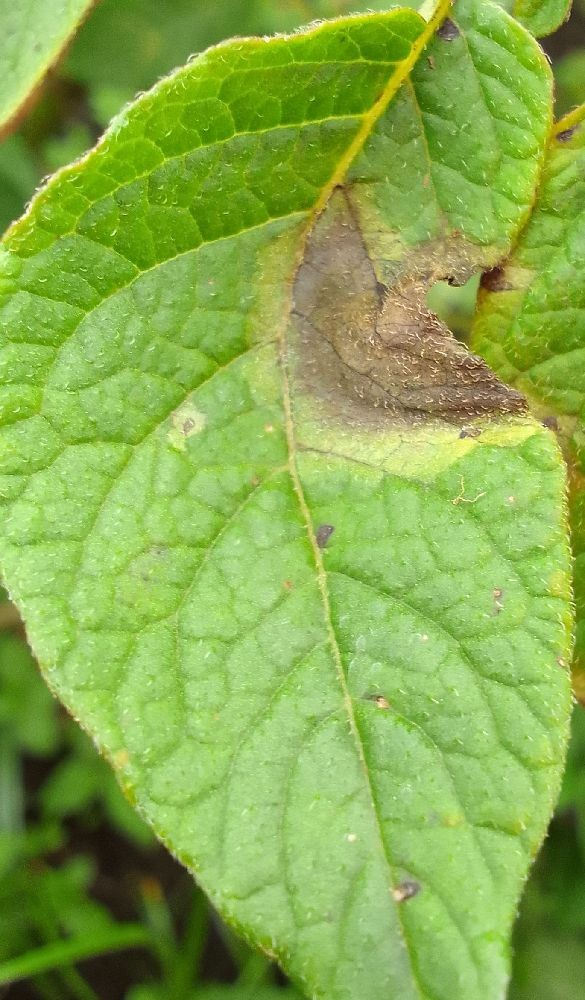late_blight: (260, 140, 584, 517), (6, 780, 219, 965), (0, 0, 126, 200), (189, 894, 250, 993)
